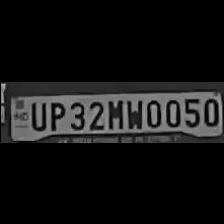0: (201, 94, 221, 125), (142, 96, 162, 126), (162, 96, 182, 126)
2: (86, 98, 104, 128)
3: (64, 98, 84, 128)
5: (180, 95, 200, 127)
M: (104, 96, 124, 128)
P: (44, 99, 64, 129)
U: (27, 99, 45, 129)
W: (124, 96, 142, 128)
